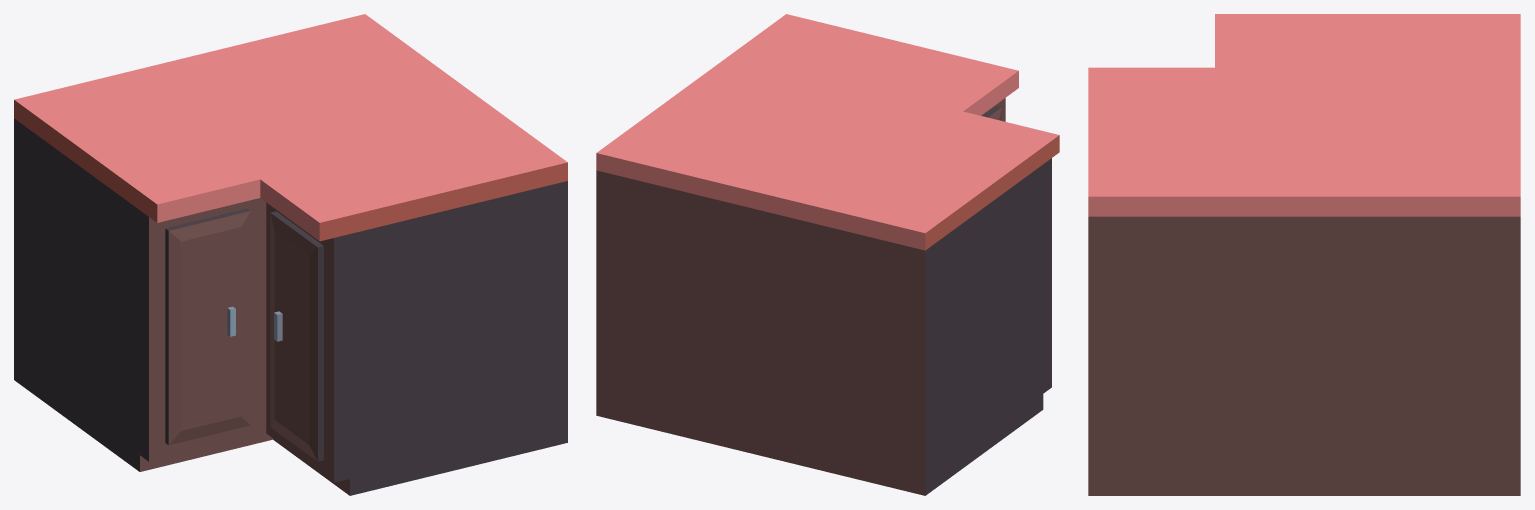
Rendered from Kitchen Cabinet  Corner.fbx.
3 views of the same model, side by side, from view 1: azimuth 30°, elevation 25°; view 2: azimuth 150°, elevation 25°; view 3: azimuth 270°, elevation 25° (orthographic). The views are drawn at different scales.
Parts seen in each view (by area): view 1: Kitchen Cabinet Corner; view 2: Kitchen Cabinet Corner; view 3: Kitchen Cabinet Corner.
Part boxes in pixels (x1,y1,x2,y2): Kitchen Cabinet Corner: [14, 14, 567, 495]; Kitchen Cabinet Corner: [596, 14, 1059, 495]; Kitchen Cabinet Corner: [1088, 14, 1520, 495].
Size of the model in its own units: 300 by 229 by 300.
